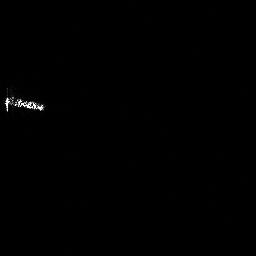ship: (2, 87, 45, 116)
